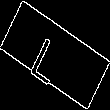L_NE: (34, 25, 76, 85)
